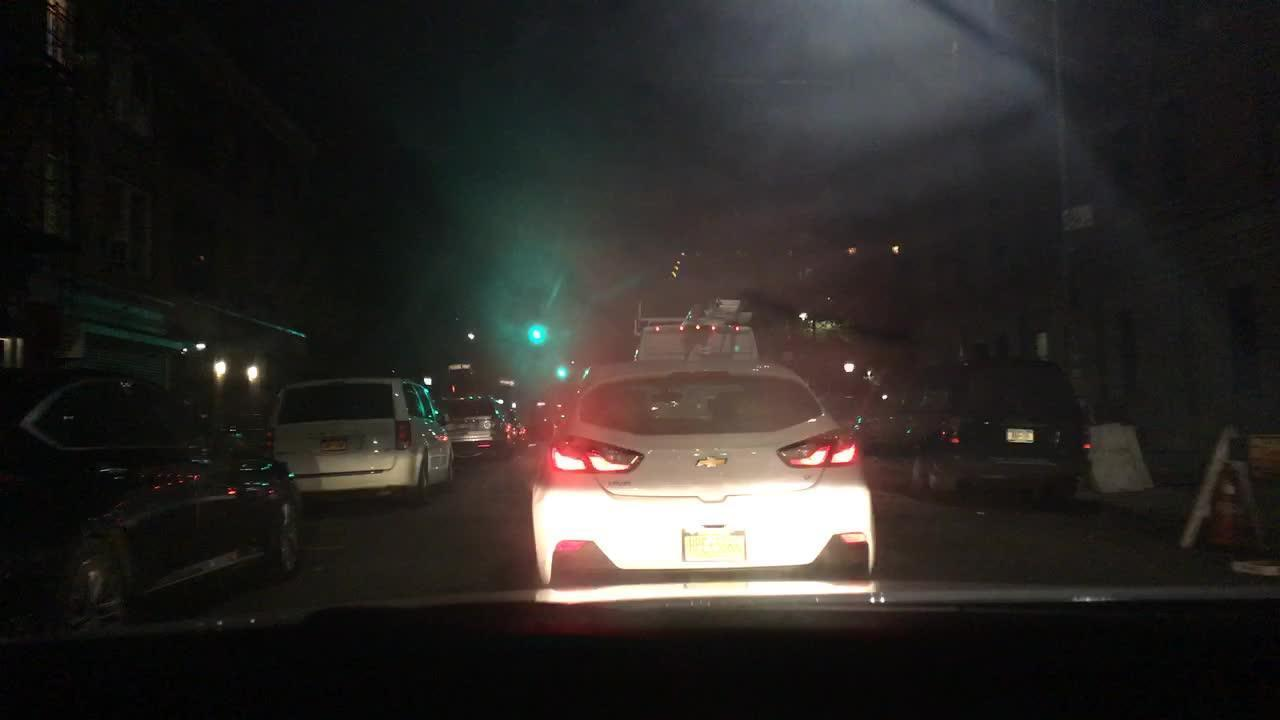chevrolet: (695, 449, 729, 473)
